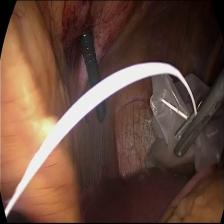Grasper: (173, 94, 216, 167)
Specimen Bag: (147, 56, 224, 193)
